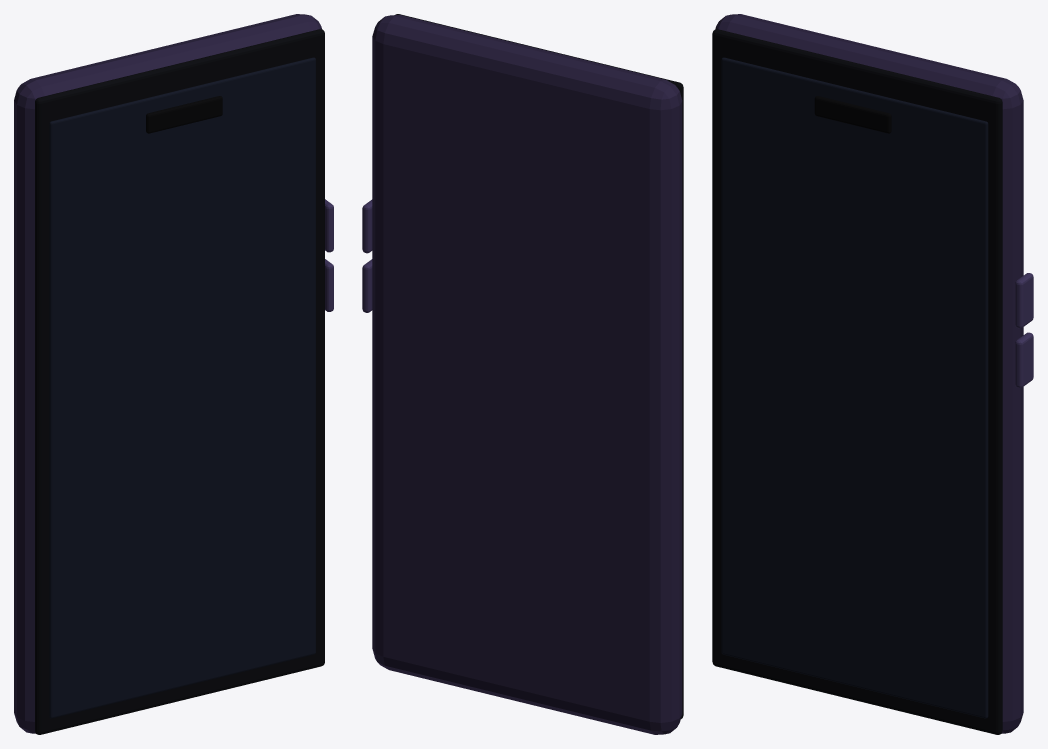
File: celular.glb
3 views of the same model, side by side, from view 1: azimuth 30°, elevation 25°; view 2: azimuth 150°, elevation 25°; view 3: azimuth 330°, elevation 25° (orthographic).
Parts seen in each view (by area): view 1: pantalla, Cube.001, Cube, Cube.002; view 2: Cube, Cube.001, Cube.003, Cube.004; view 3: pantalla, Cube.001, Cube, Cube.002, Cube.003, Cube.004.
Part boxes in pixels (x1,y1,x2,y2): pantalla: (49,57,315,718); Cube.001: (35,29,324,734); Cube: (14,14,321,733); Cube.002: (146,96,222,133); Cube: (372,15,682,734); Cube.001: (395,14,683,718); Cube.003: (362,199,372,253); Cube.004: (362,259,372,312); pantalla: (721,57,988,718); Cube.001: (712,29,1002,734); Cube: (715,14,1023,733); Cube.002: (814,96,891,133); Cube.003: (1015,273,1033,328); Cube.004: (1015,332,1033,388).
Size of the model in its own units: 0.82 by 1.64 by 0.126.
